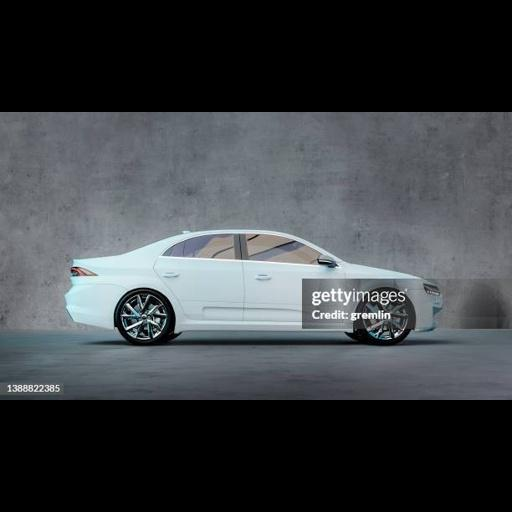sedan: (66, 230, 441, 344)
